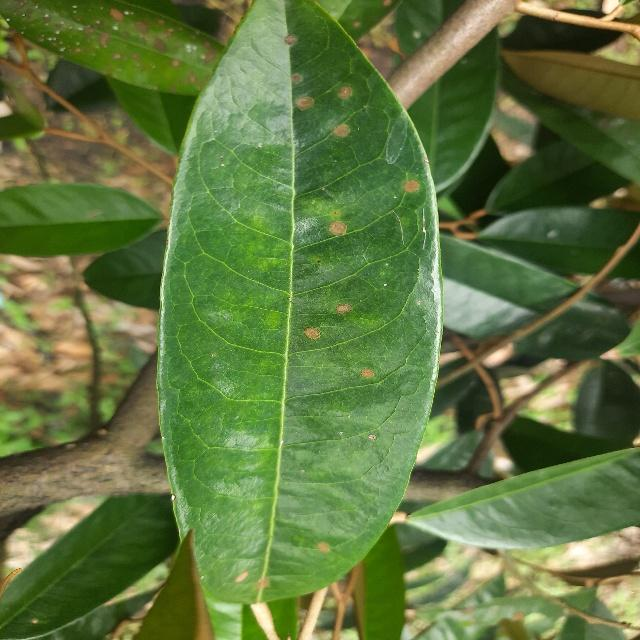Algal Leaf Spot: (149, 0, 450, 615)
